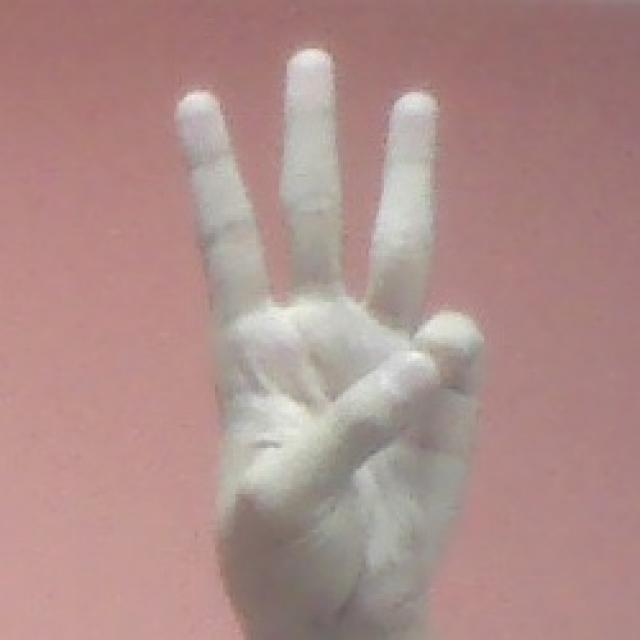Numeric-6: (152, 37, 495, 603)
